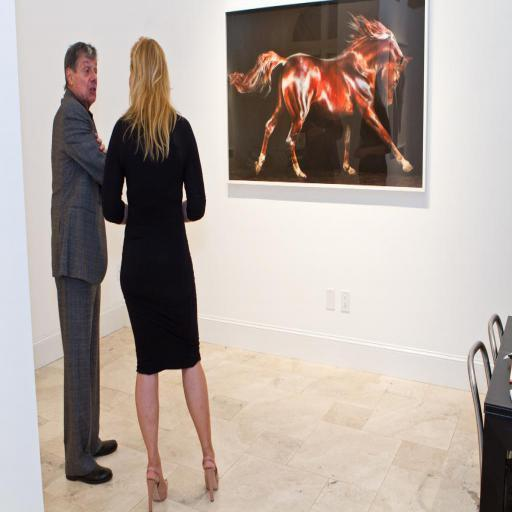horse: (226, 8, 416, 182)
